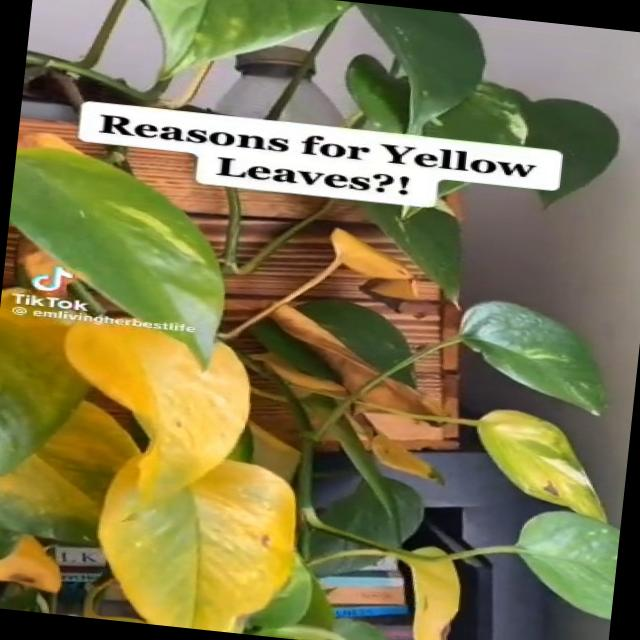lisc_przelany: (101, 457, 295, 633), (62, 320, 246, 502), (266, 307, 450, 472), (211, 229, 414, 349), (0, 402, 138, 549), (0, 288, 97, 481), (478, 408, 608, 520), (315, 547, 459, 640), (0, 534, 62, 594), (16, 130, 102, 162)
roslina_przelana: (0, 133, 620, 640)
